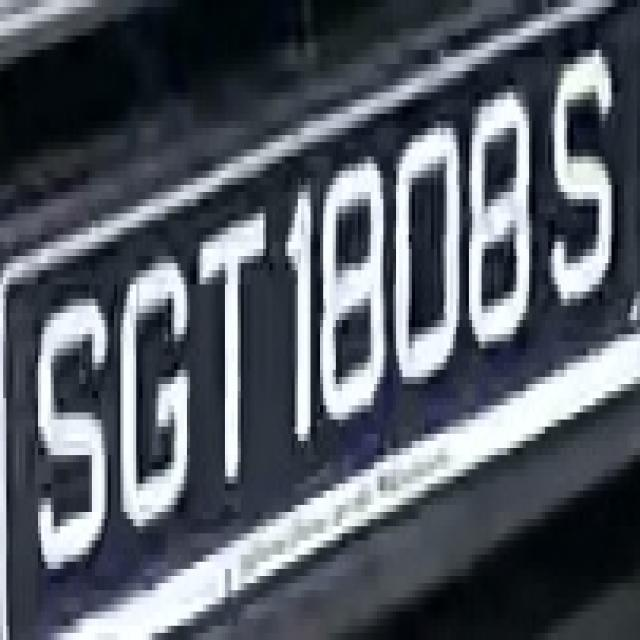0: (393, 121, 469, 398)
1: (276, 157, 320, 455)
8: (462, 85, 538, 384), (314, 156, 393, 441)
G: (114, 228, 196, 562)
S: (28, 249, 111, 583), (536, 21, 624, 327)
T: (181, 192, 263, 498)
